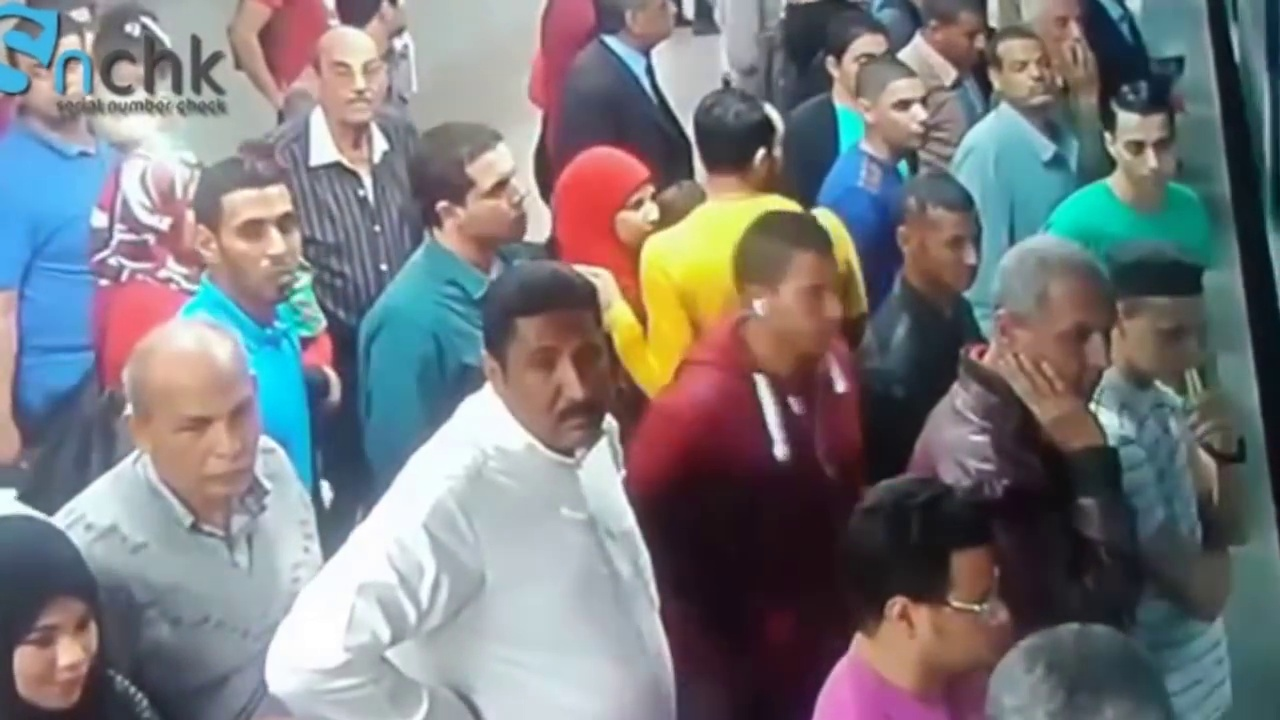face: (147, 383, 253, 502), (509, 324, 608, 442), (1035, 282, 1115, 408), (224, 192, 304, 306), (19, 603, 101, 708), (939, 553, 1006, 664), (777, 268, 844, 360), (461, 165, 534, 249), (1138, 301, 1202, 385), (1112, 113, 1175, 190), (993, 42, 1056, 115), (922, 226, 985, 293), (325, 48, 379, 123), (882, 81, 932, 148), (616, 186, 658, 238)
